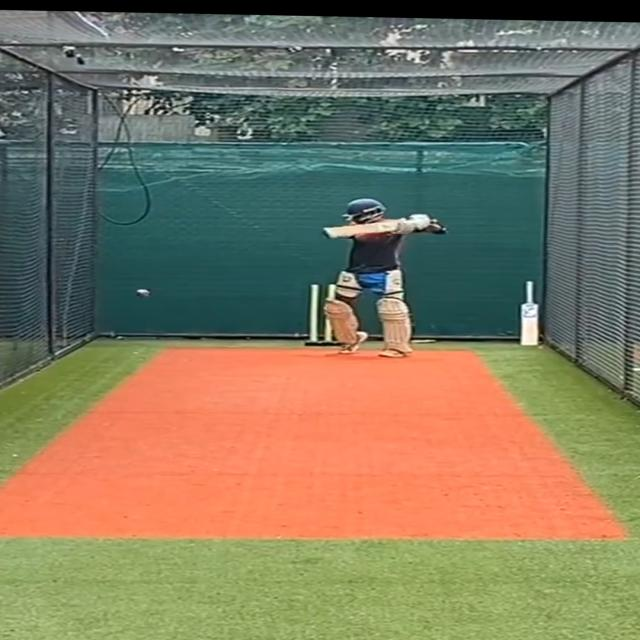ball: (130, 284, 154, 301)
stump: (302, 282, 354, 350)
